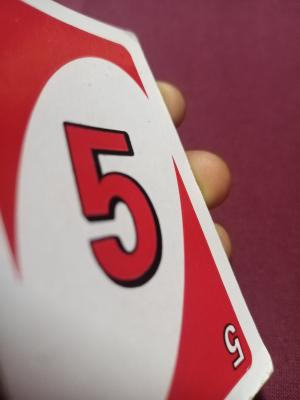num_5: (217, 315, 252, 379)
